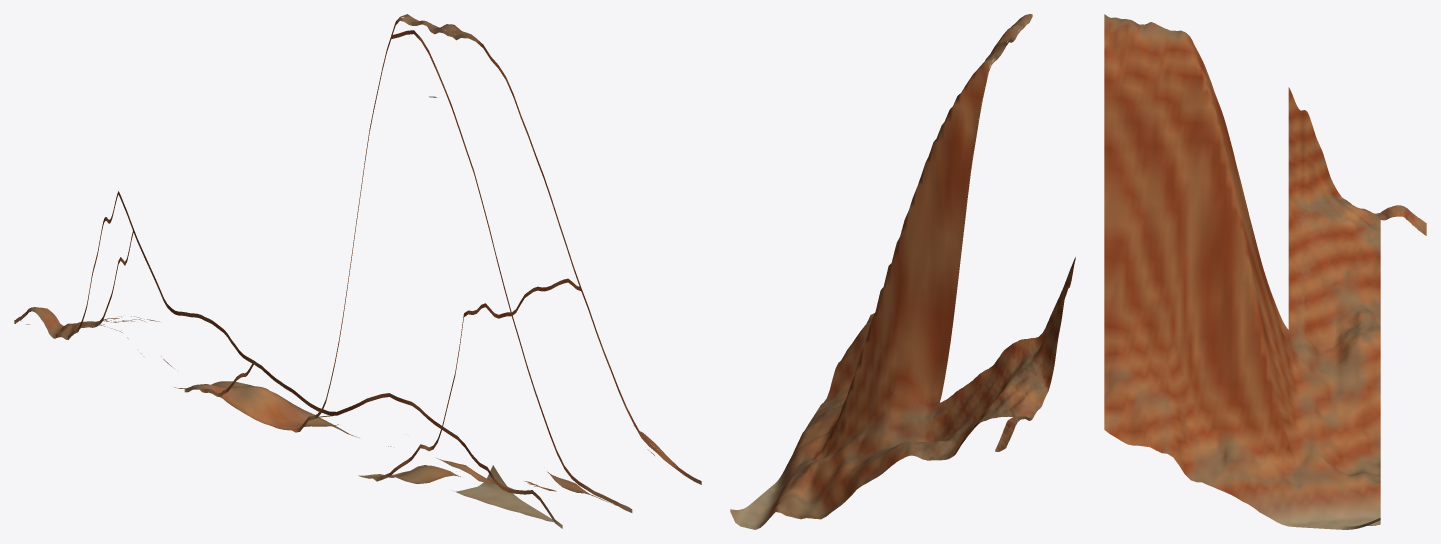
Rendered from terrain-018.glb.
3 views of the same model, side by side, from view 1: azimuth 30°, elevation 25°; view 2: azimuth 150°, elevation 25°; view 3: azimuth 270°, elevation 25° (orthographic). The views are drawn at different scales.
Parts seen in each view (by area): view 1: terrain-018; view 2: terrain-018; view 3: terrain-018.
Part boxes in pixels (bbox=[...]): terrain-018: bbox=[14, 14, 701, 528]; terrain-018: bbox=[730, 14, 1075, 529]; terrain-018: bbox=[1104, 14, 1426, 529].
Size of the model in its own units: 472 by 675 by 448.
